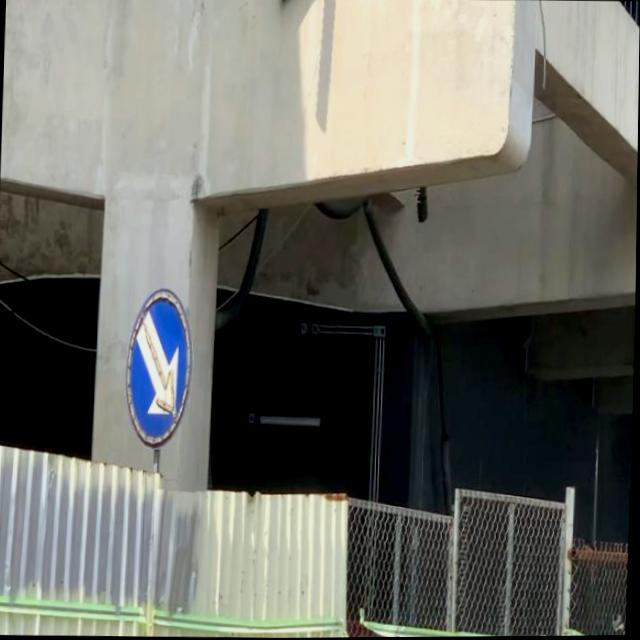Vong chuong ngai vat sang phai: (122, 283, 198, 457)
